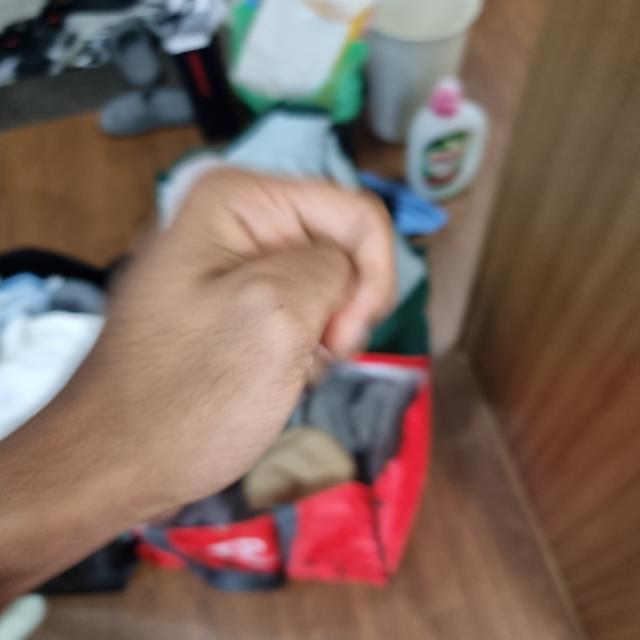Rock: (12, 169, 396, 545)
